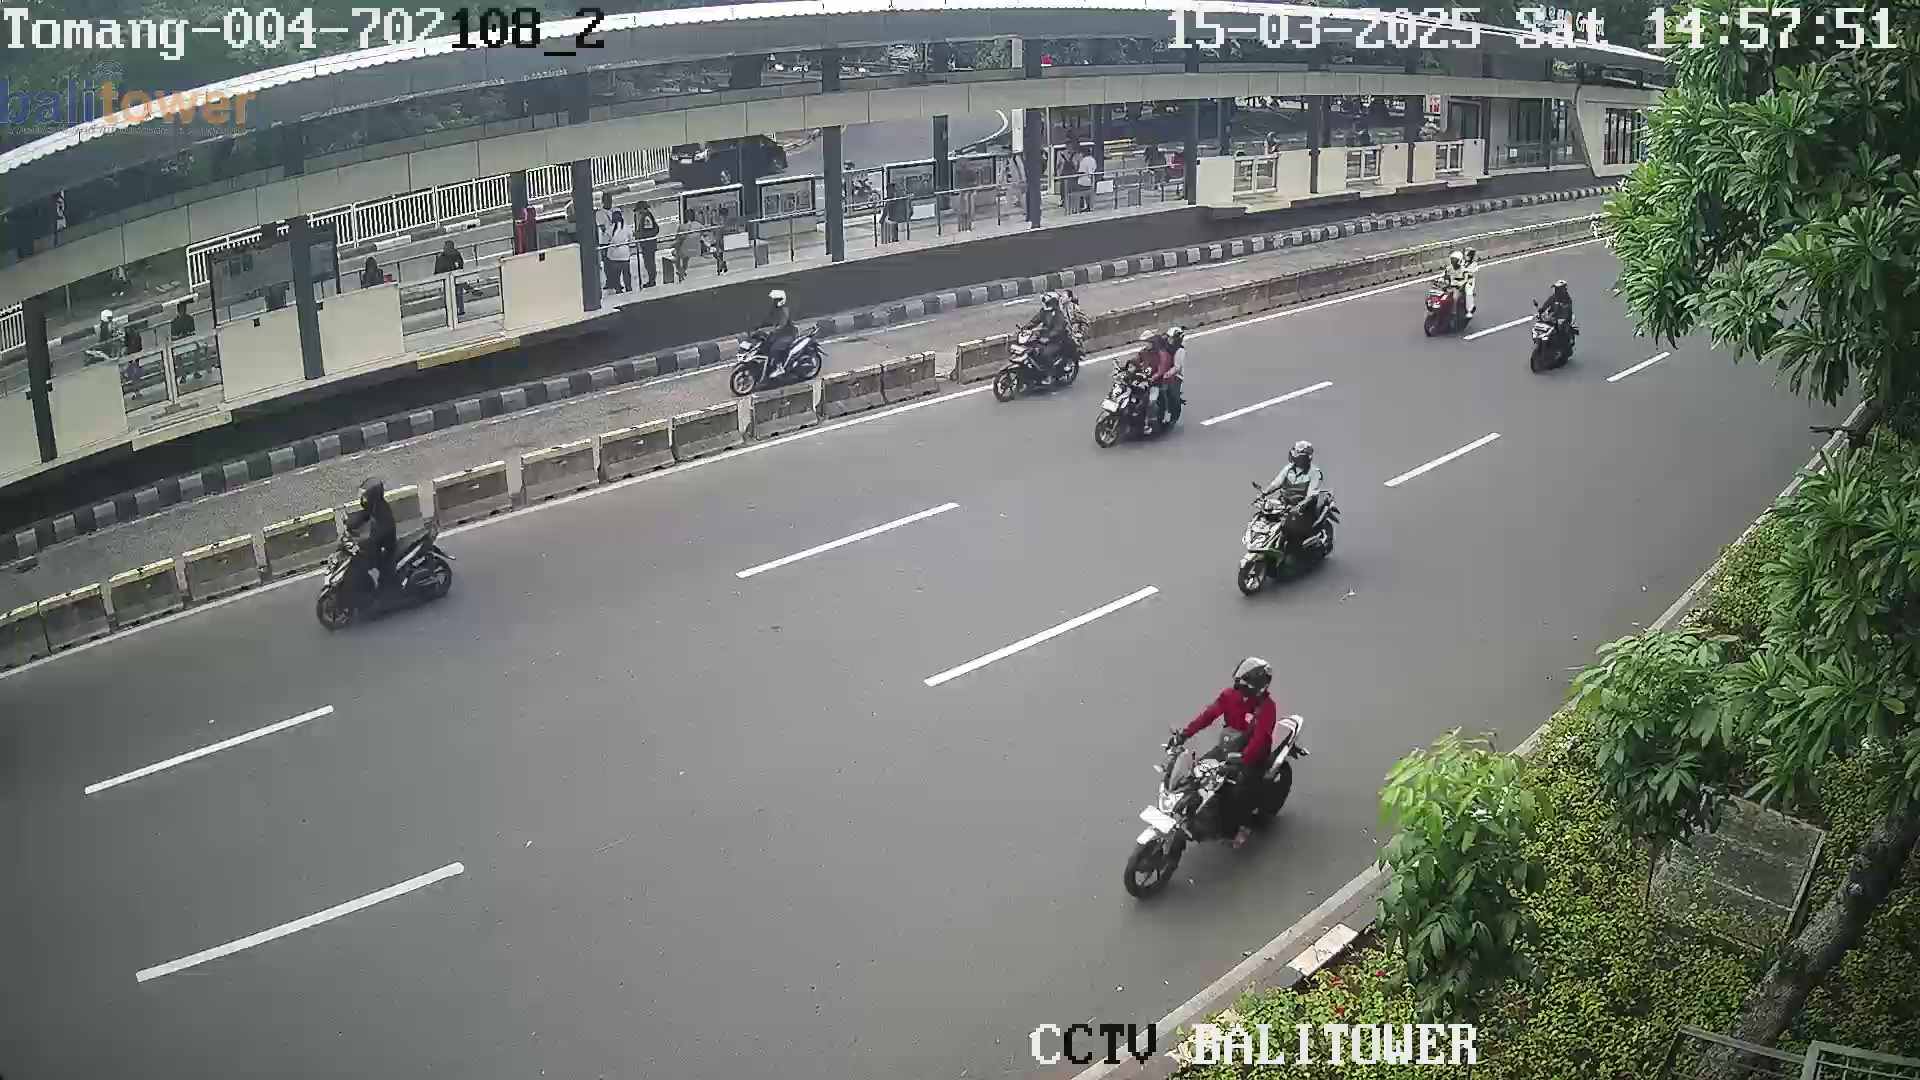full-face helmet: (355, 475, 392, 516)
half-face helmet: (1235, 657, 1278, 704), (1286, 441, 1319, 473), (763, 282, 796, 314), (1135, 324, 1165, 351), (1549, 275, 1570, 302), (1168, 329, 1190, 349), (1447, 249, 1465, 273)
no helmet: (1057, 290, 1084, 314), (1121, 359, 1145, 378)
